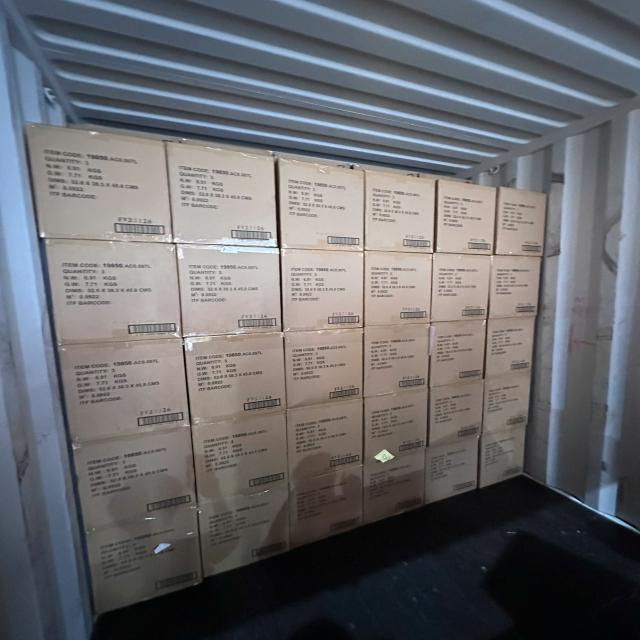Carton: (23, 126, 171, 248), (42, 239, 181, 345), (57, 342, 188, 445), (169, 144, 280, 252), (72, 436, 196, 532), (85, 516, 203, 614), (178, 244, 284, 337), (185, 334, 285, 422), (196, 488, 290, 580), (276, 157, 364, 254), (192, 416, 289, 502), (284, 252, 367, 334), (291, 465, 367, 550), (284, 328, 363, 408), (363, 171, 434, 255), (287, 405, 364, 482), (363, 251, 431, 328), (360, 452, 424, 528), (363, 326, 429, 398), (435, 180, 494, 257), (363, 392, 428, 456), (432, 254, 489, 324), (429, 324, 486, 388), (429, 384, 484, 448), (496, 187, 546, 257), (425, 445, 479, 509), (480, 429, 530, 494), (491, 256, 542, 319), (486, 319, 536, 382), (485, 376, 534, 438)
